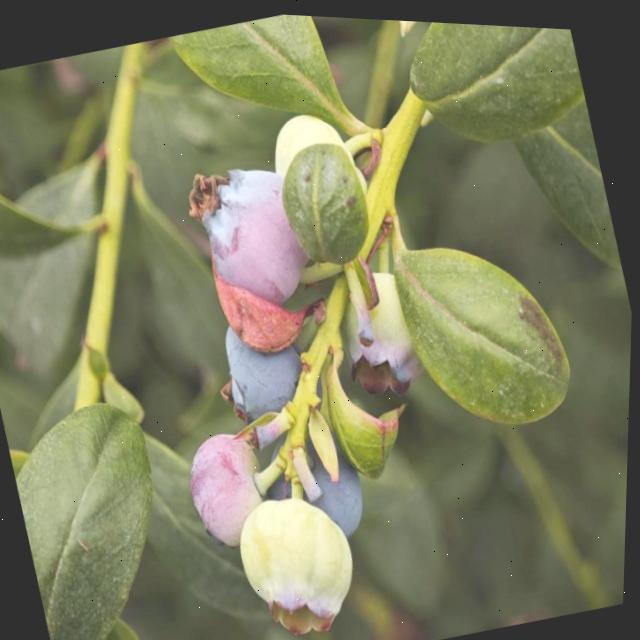Semi-RipeBlueBerry: (184, 150, 321, 316), (175, 420, 277, 558)
UnripeBlueBerry: (227, 474, 375, 640)
